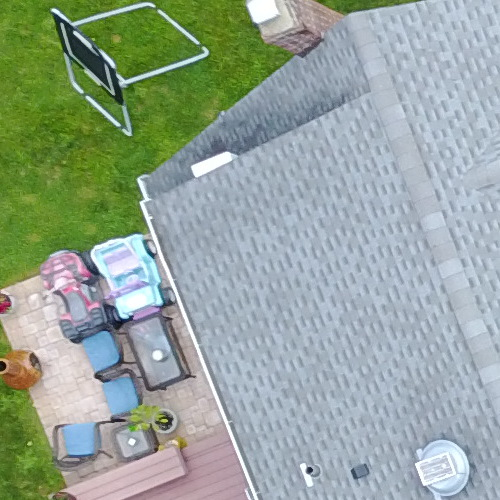flower pot: (148, 403, 186, 438), (1, 286, 20, 311)
